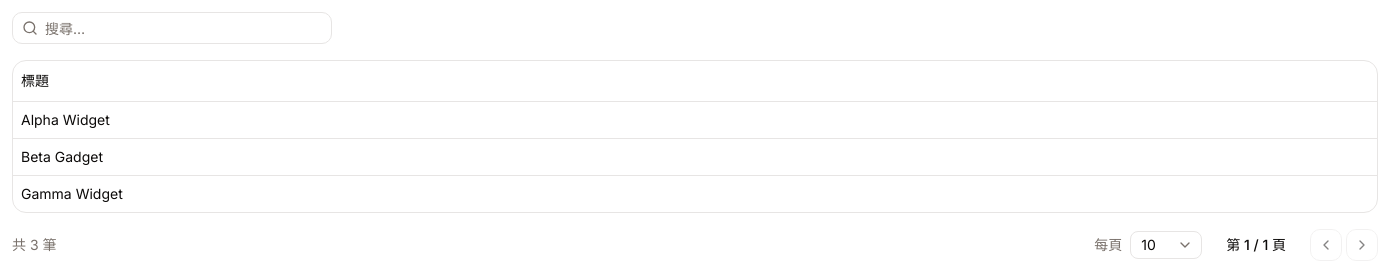
Test: DataTable — global filter › a filter matching nothing renders the empty-state message, not a blank table
Type "nonexistent-xyz" into the field with placeholder "搜尋…" at (172, 28), box [12,12,332,44]
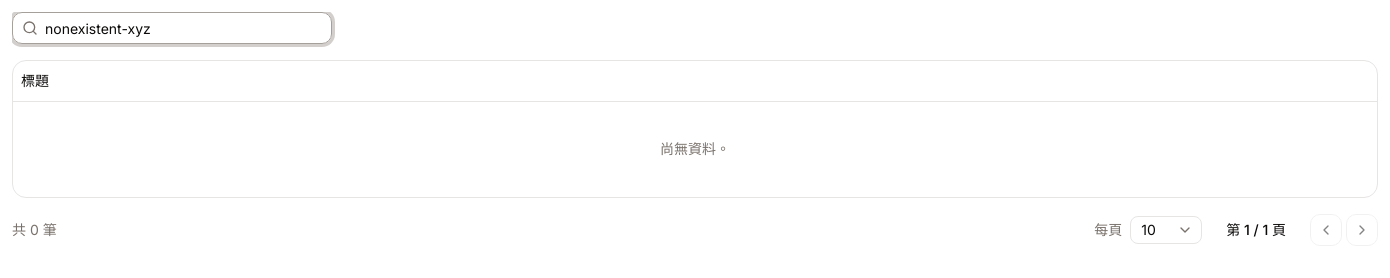
Now the text "尚無資料。" is shown, box [13,101,1377,197]
Now the text "共 0 筆" is shown, box [12,220,57,240]
